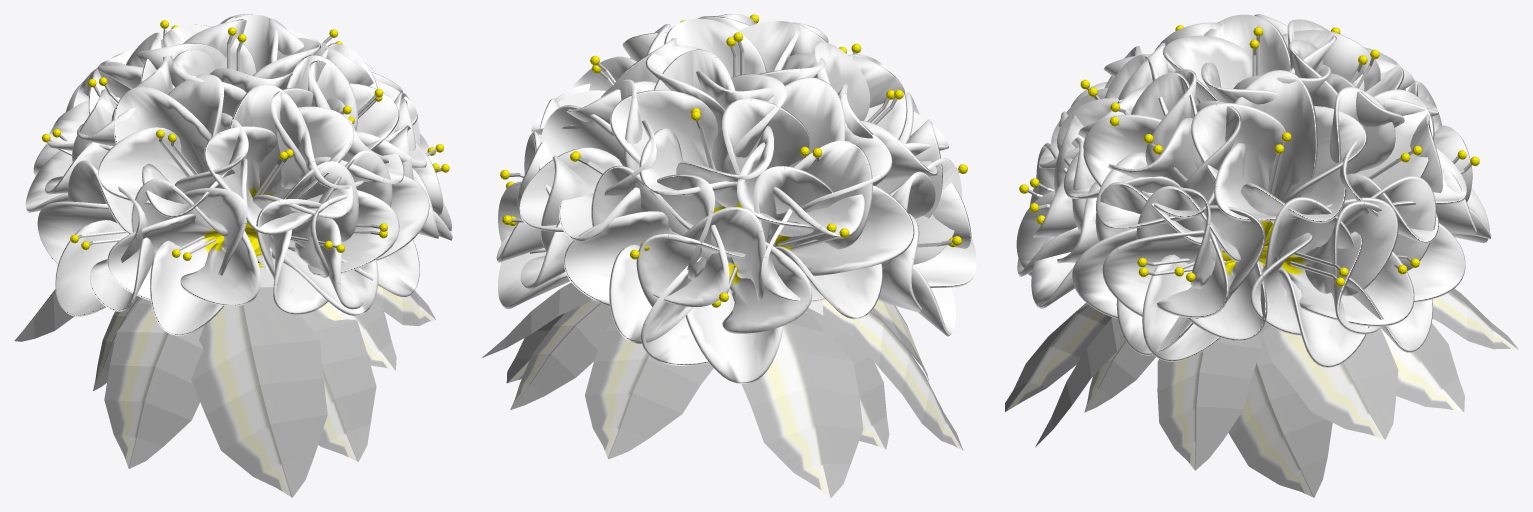
The model's file is rhododendron.fbx.
3 views of the same model, side by side, from view 1: azimuth 30°, elevation 25°; view 2: azimuth 150°, elevation 25°; view 3: azimuth 270°, elevation 25° (orthographic). The views are drawn at different scales.
Parts seen in each view (by area): view 1: Cylinder.019; view 2: Cylinder.019; view 3: Cylinder.019.
Part boxes in pixels (bbox=[...]): Cylinder.019: bbox=[14, 14, 452, 497]; Cylinder.019: bbox=[481, 14, 976, 497]; Cylinder.019: bbox=[1005, 14, 1518, 497].
Bounding box in the file's own units: 6.13 × 6.67 × 5.93.
3 materials, 3 textured.
